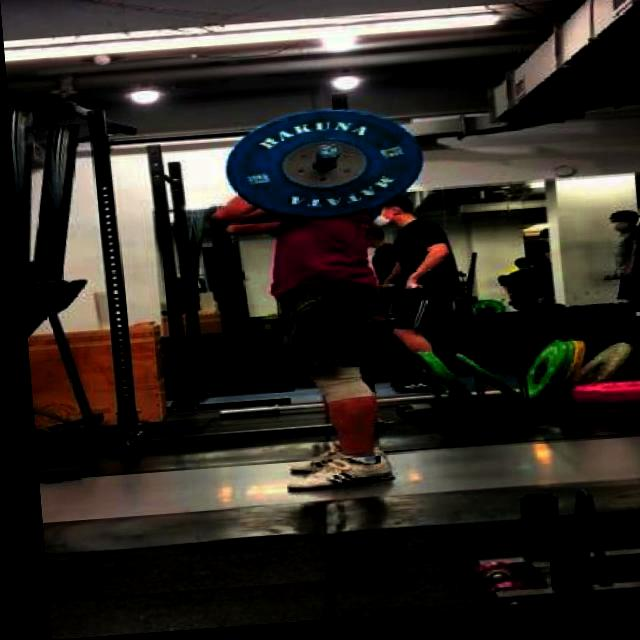barbell: (212, 103, 430, 232)
